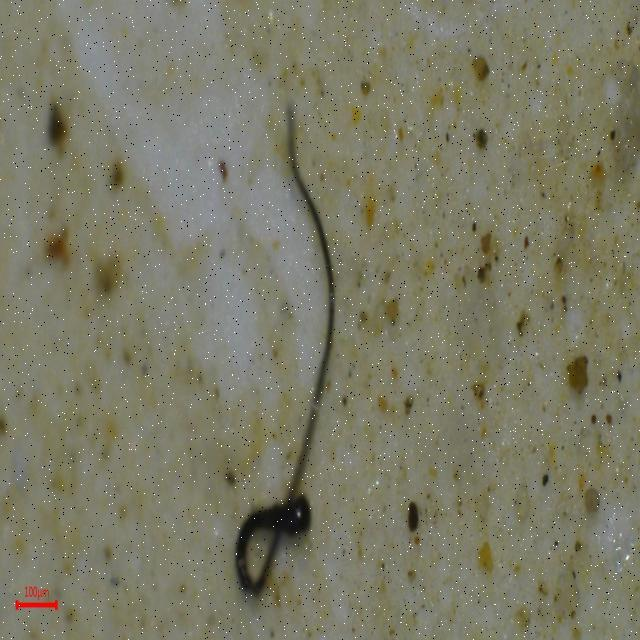Fibre: (229, 101, 343, 601)
